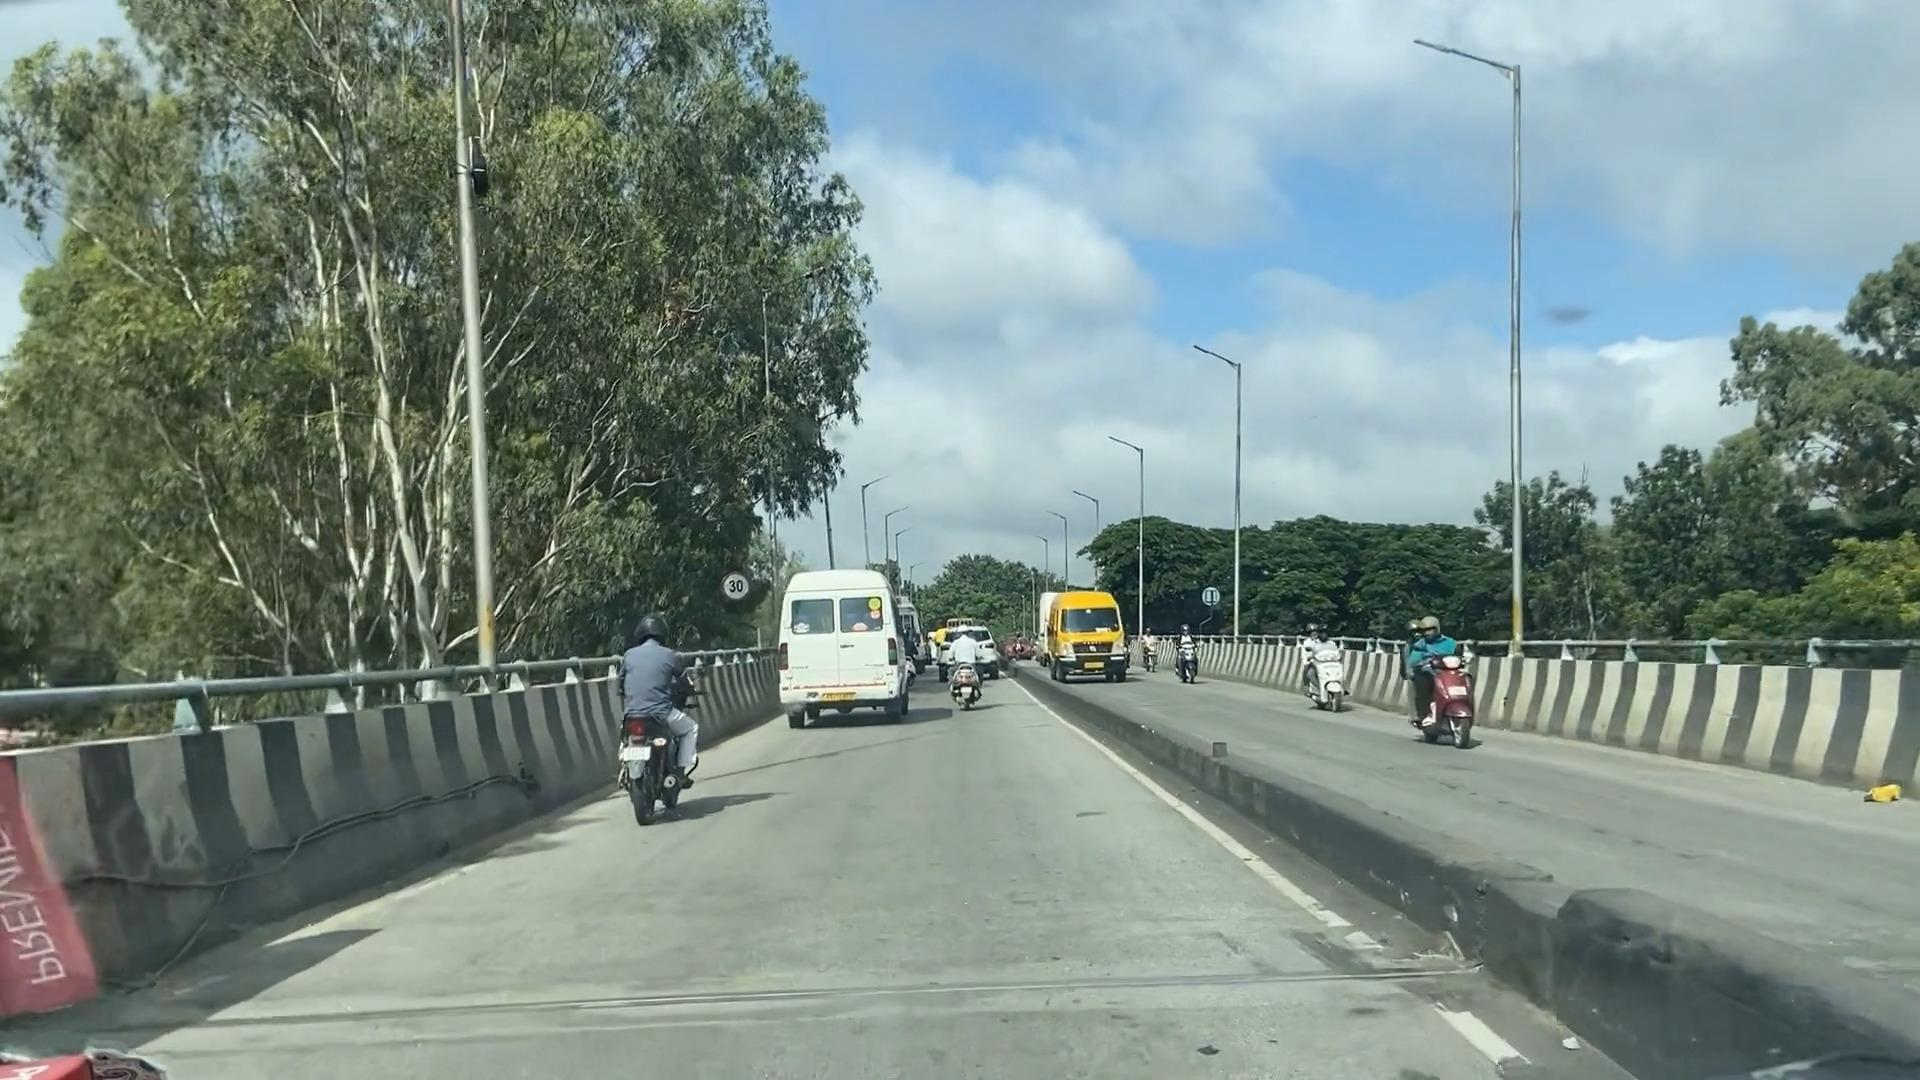HMV: (761, 566, 897, 732)
LMV: (608, 604, 688, 831), (944, 620, 980, 711)
SpeedBump: (215, 985, 1399, 1029)
